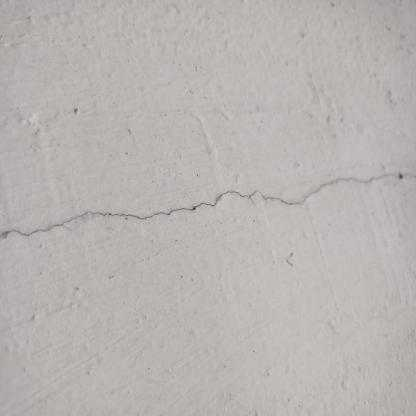crack: (2, 170, 414, 242)
